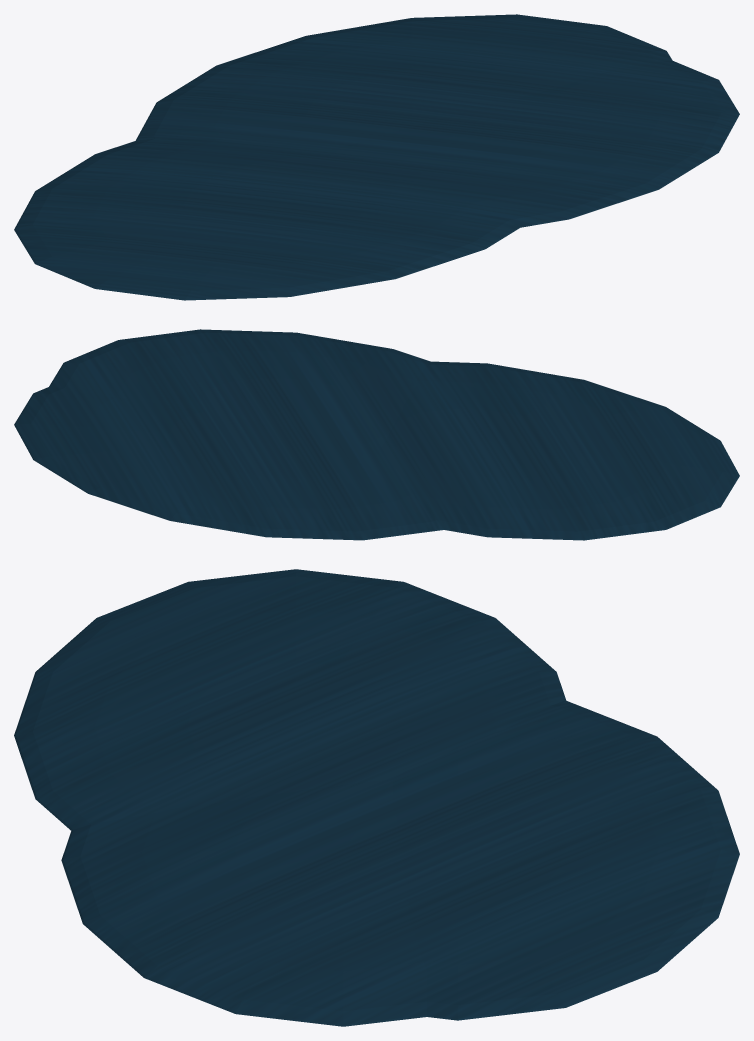
File: PROP-0FDB03DA32AA_lod0.glb
3 renders of one model, top to bottom at view 1: azimuth 30°, elevation 25°; view 2: azimuth 150°, elevation 25°; view 3: azimuth 270°, elevation 25°, orthographic. The views are drawn at different scales.
Visible parts, largest first — view 1: surface_hazard.006; view 2: surface_hazard.006; view 3: surface_hazard.006.
Boxes of the visible parts, box(x1,y1,x2,y2) form: surface_hazard.006: box(14, 14, 739, 300); surface_hazard.006: box(14, 329, 739, 540); surface_hazard.006: box(14, 569, 739, 1026).
Size of the model in its own units: 1.64 by 0.036 by 1.1.
1 material, 1 textured.
